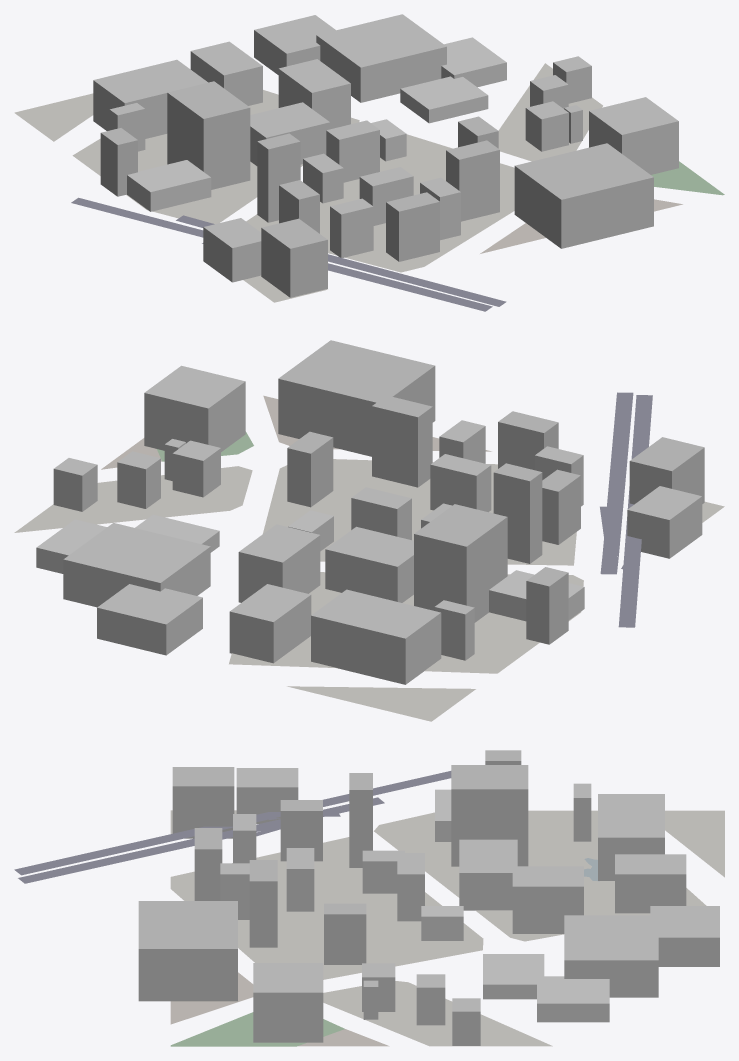
The model's file is 127_95_mid.glb.
The picture shows the model from 3 angles, top to bottom: view 1: azimuth 30°, elevation 25°; view 2: azimuth 150°, elevation 25°; view 3: azimuth 270°, elevation 25°; orthographic projection. The views are drawn at different scales.
Size of the model in its own units: 569 by 79.36 by 641.
